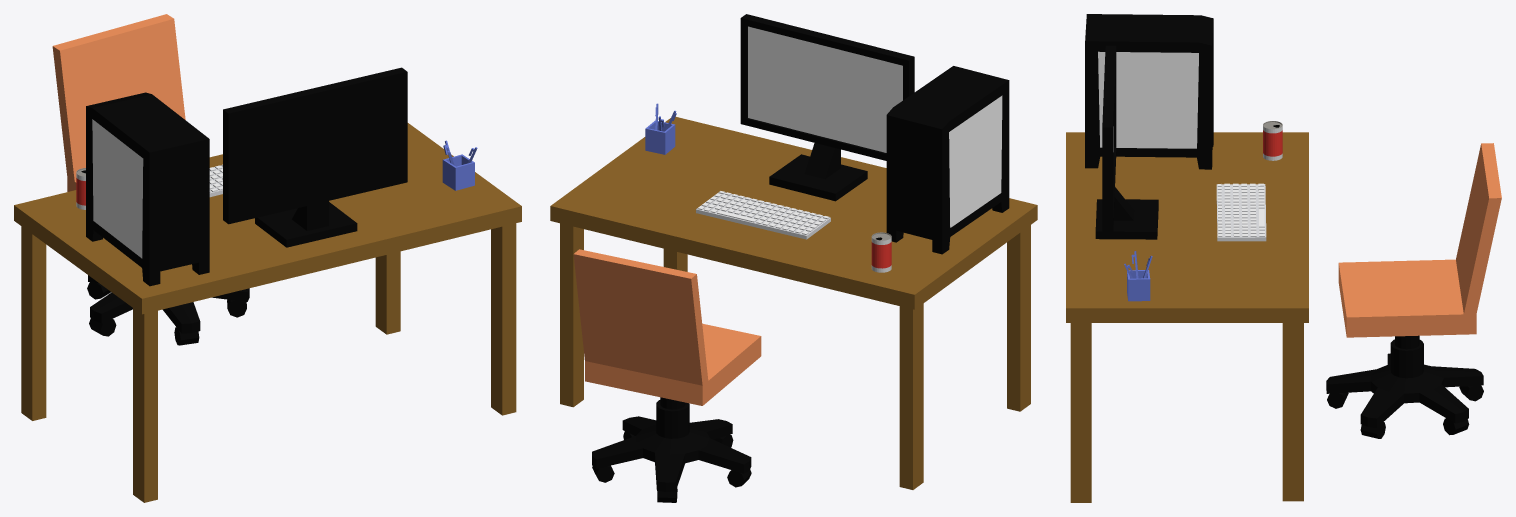
The picture shows the model from 3 angles, left to right: view 1: azimuth 30°, elevation 25°; view 2: azimuth 150°, elevation 25°; view 3: azimuth 270°, elevation 25°; orthographic projection. The views are drawn at different scales.
Visible parts, largest first — view 1: Cube.013, Cube.017, Cube.021, Cube.016, Cube.011; view 2: Cube.013, Cube.016, Cube.017, Cube.021, Cube.014, Cube.011, Cylinder.008; view 3: Cube.013, Cube.016, Cube.021, Cube.017, Cube.014, Cube.011, Cylinder.008.
Boxes of the visible parts, x1,y1,x2,y2 form: Cube.013: [14, 123, 521, 502]; Cube.017: [223, 67, 407, 247]; Cube.021: [86, 92, 209, 286]; Cube.016: [52, 14, 249, 345]; Cube.011: [442, 140, 477, 190]; Cube.013: [550, 117, 1037, 489]; Cube.016: [573, 249, 761, 502]; Cube.017: [740, 14, 914, 201]; Cube.021: [886, 66, 1009, 254]; Cube.014: [696, 191, 830, 239]; Cube.011: [645, 103, 676, 154]; Cylinder.008: [871, 232, 891, 272]; Cube.013: [1066, 132, 1308, 502]; Cube.016: [1326, 143, 1501, 438]; Cube.021: [1085, 14, 1213, 169]; Cube.017: [1095, 45, 1158, 239]; Cube.014: [1216, 183, 1266, 241]; Cube.011: [1124, 251, 1152, 301]; Cylinder.008: [1263, 121, 1282, 160].
Size of the model in its own units: 2815 by 2483 by 2946.
